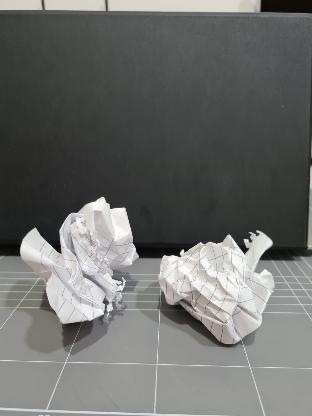Paper: (158, 223, 278, 345), (22, 200, 136, 324)
